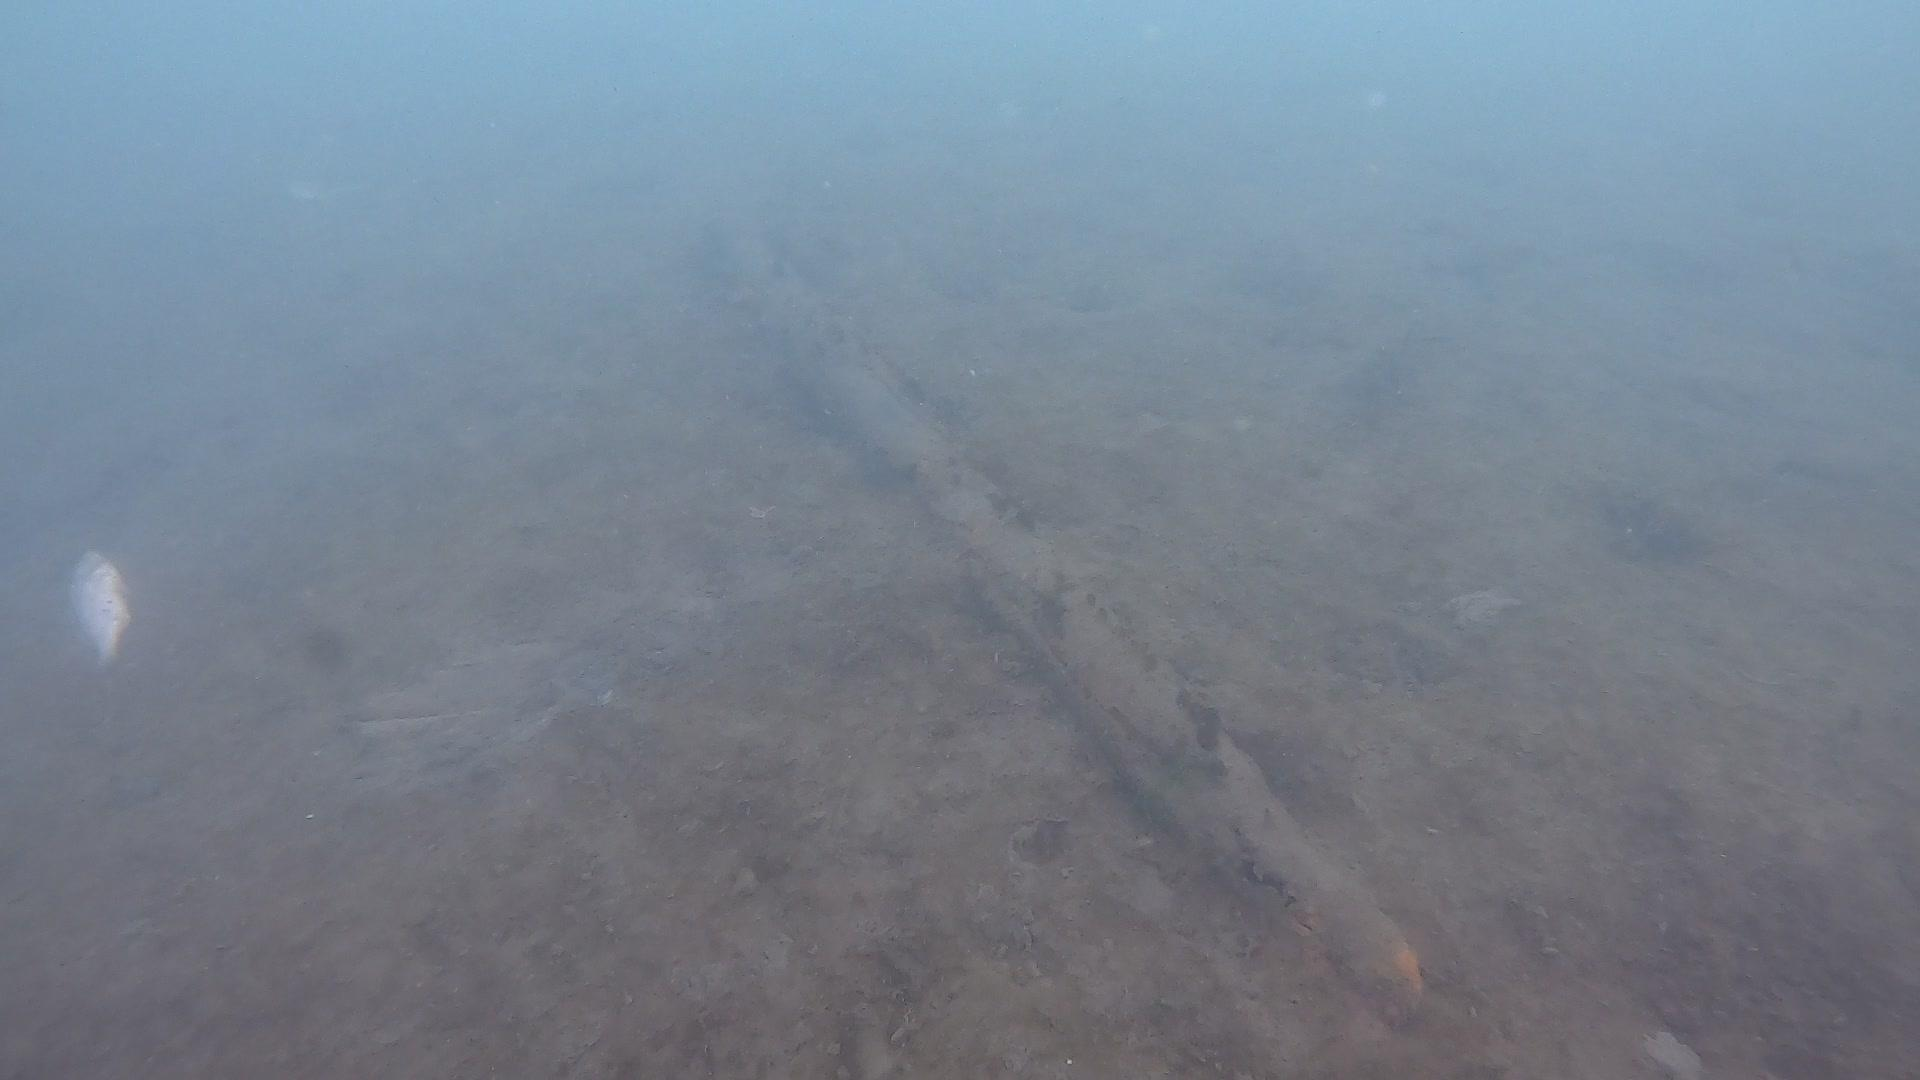wood: (703, 231, 1425, 1023)
